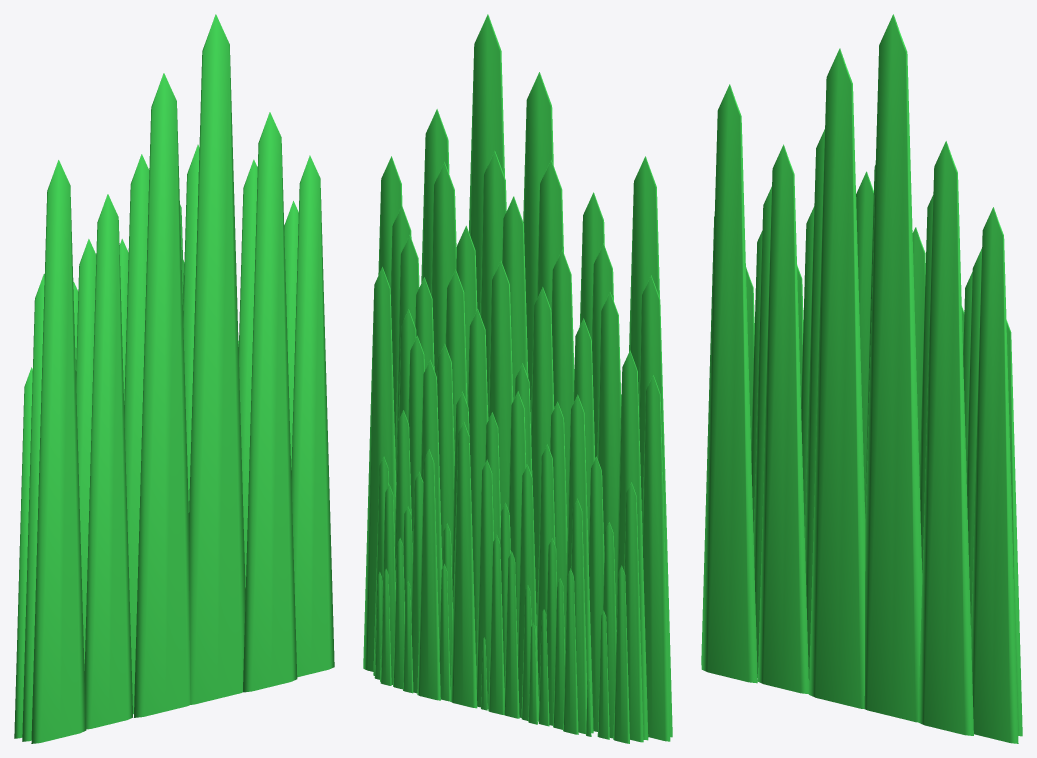
Rendered from Eel-Grass.fbx.
3 views of the same model, side by side, from view 1: azimuth 30°, elevation 25°; view 2: azimuth 150°, elevation 25°; view 3: azimuth 330°, elevation 25° (orthographic). The views are drawn at different scales.
Visible parts, largest first — view 1: Eel-Grass.004; view 2: Eel-Grass.004; view 3: Eel-Grass.004.
Boxes of the visible parts, box(x1,y1,x2,y2) form: Eel-Grass.004: box(14, 14, 334, 743); Eel-Grass.004: box(363, 14, 672, 743); Eel-Grass.004: box(701, 14, 1022, 743).
Size of the model in its own units: 28.2 by 58.73 by 4.29.
